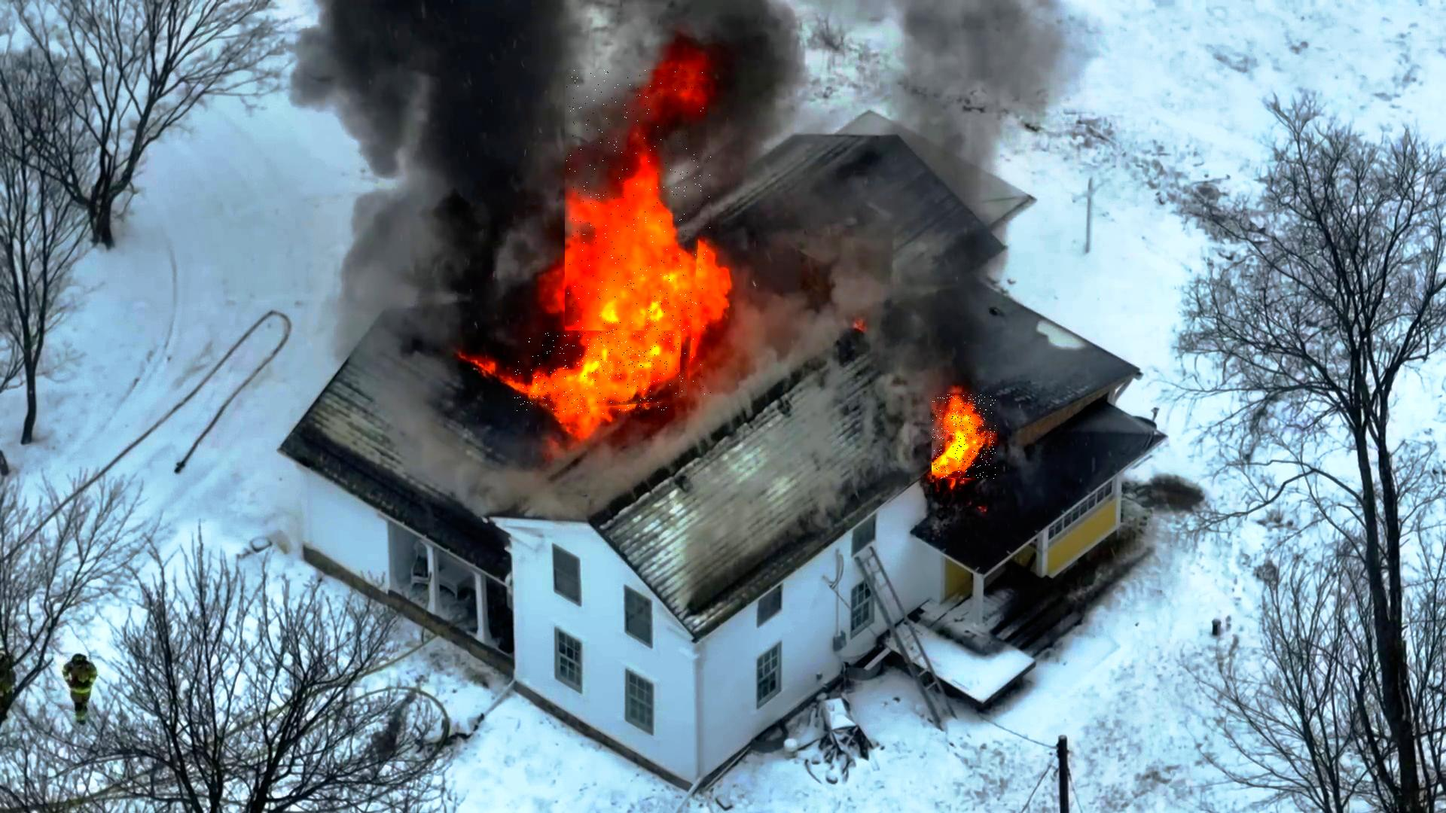fire: (565, 70, 712, 398), (514, 332, 682, 414), (932, 394, 996, 479)
